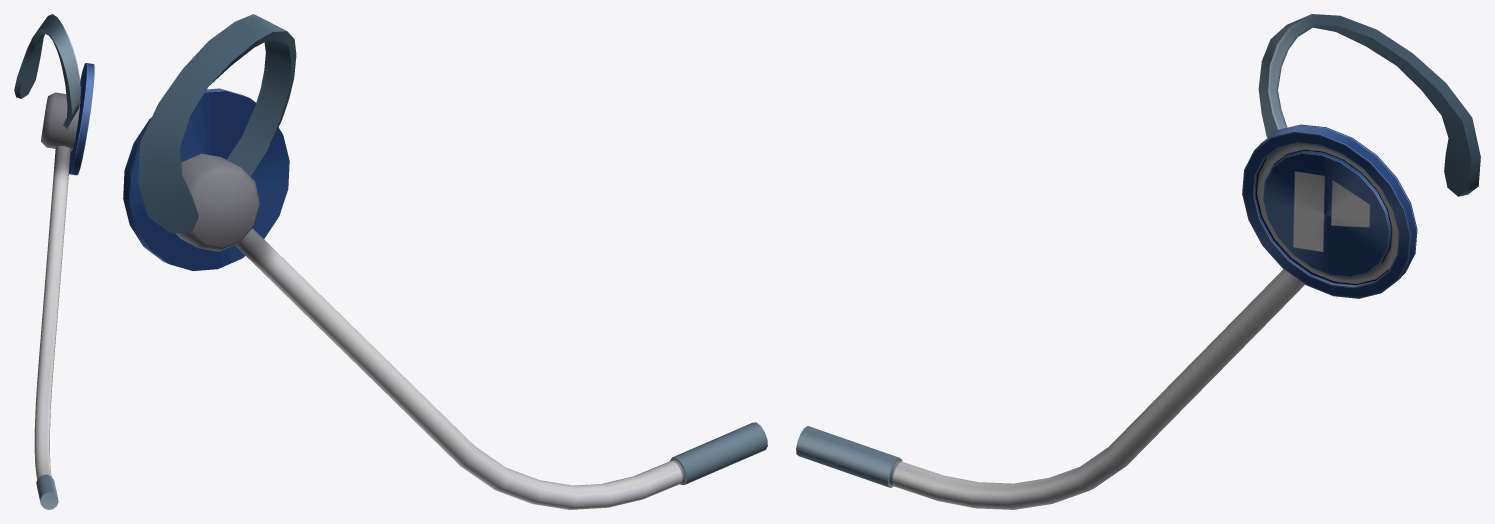
File: EntrainingIntercomYuta.fbx
The picture shows the model from 3 angles, left to right: view 1: azimuth 30°, elevation 25°; view 2: azimuth 150°, elevation 25°; view 3: azimuth 270°, elevation 25°; orthographic projection. The views are drawn at different scales.
Parts seen in each view (by area): view 1: EntrainingIntercomYuta; view 2: EntrainingIntercomYuta; view 3: EntrainingIntercomYuta.
Boxes of the visible parts, x1,y1,x2,y2 form: EntrainingIntercomYuta: [14, 14, 94, 509]; EntrainingIntercomYuta: [123, 14, 767, 509]; EntrainingIntercomYuta: [796, 14, 1480, 509].
Bounding box in the file's own units: 0.0499 × 0.0746 × 0.078.
Materials: 1 (1 with a texture image).
